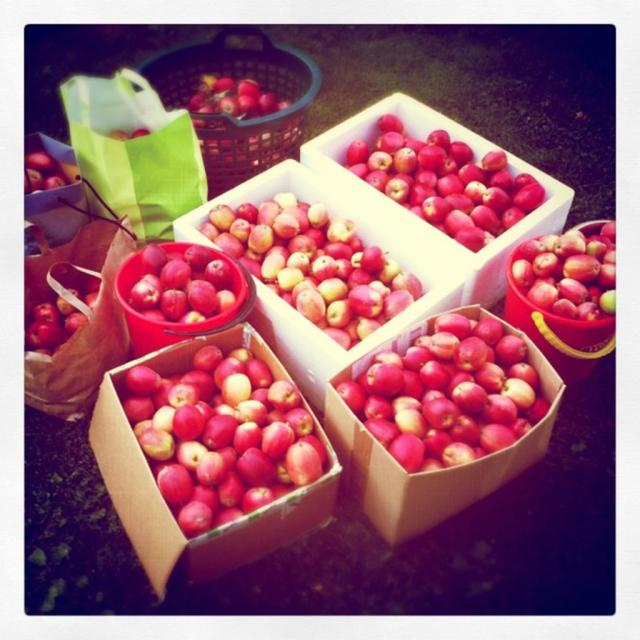Healty Apple: (122, 347, 326, 539), (334, 310, 552, 474), (197, 196, 426, 348), (341, 113, 545, 250), (182, 76, 300, 168), (512, 219, 617, 320), (126, 243, 236, 324), (26, 275, 100, 356), (179, 501, 212, 538), (26, 152, 56, 172), (20, 165, 41, 192), (44, 172, 69, 190), (108, 129, 128, 141), (132, 124, 152, 136)
